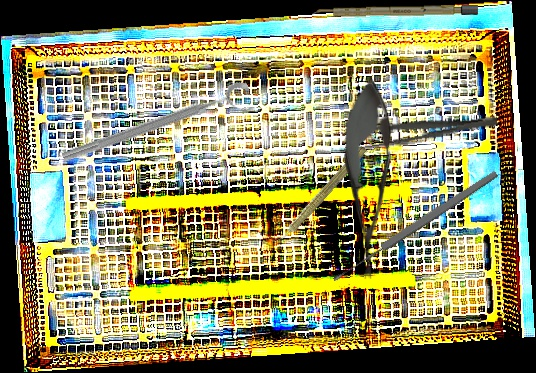Dressing Forceps: (336, 107, 500, 157)
Fixation Ring: (59, 79, 257, 178)
Handpiece: (269, 141, 370, 251)
Micro Scissor: (344, 76, 393, 279)
Scalpel Handle: (311, 4, 479, 18)
Surgical Spoon: (330, 169, 500, 284)
